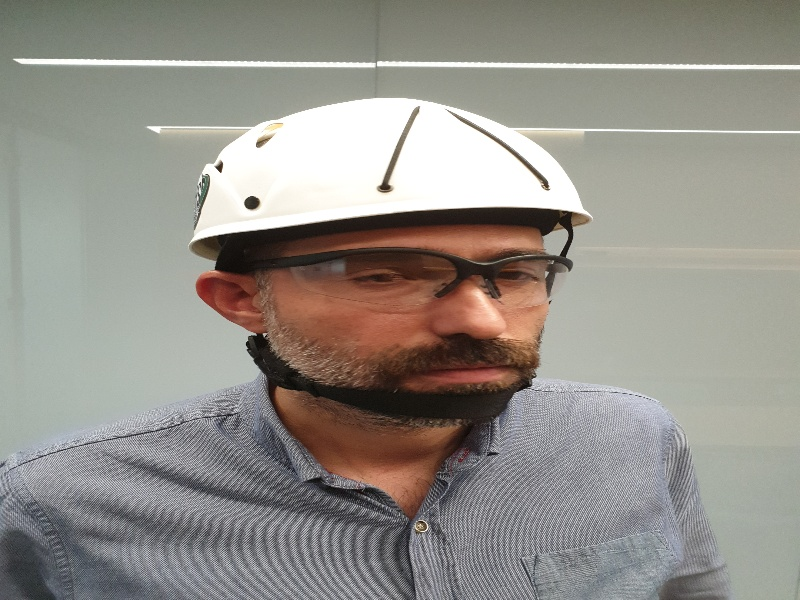Baret: (191, 96, 591, 240)
Gozluk: (223, 247, 574, 316)
